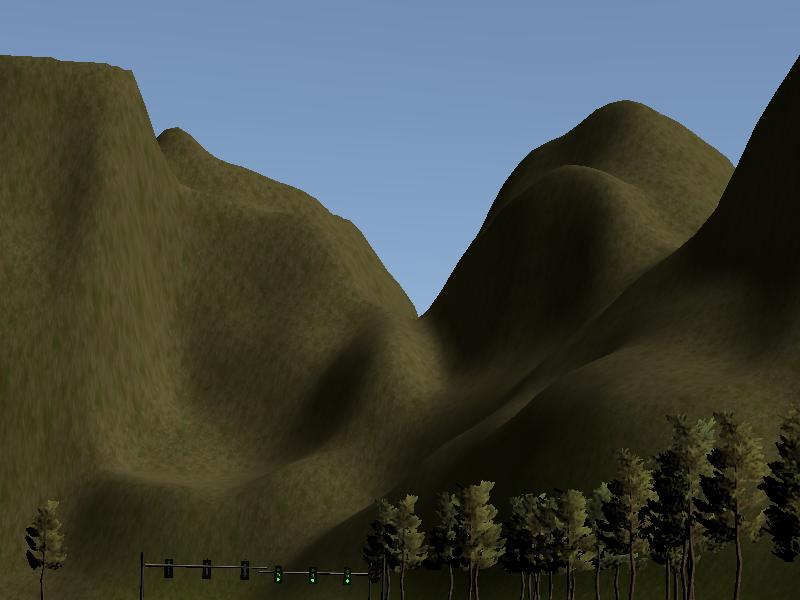Green: (274, 561, 282, 585), (343, 566, 352, 587), (309, 566, 317, 585)
